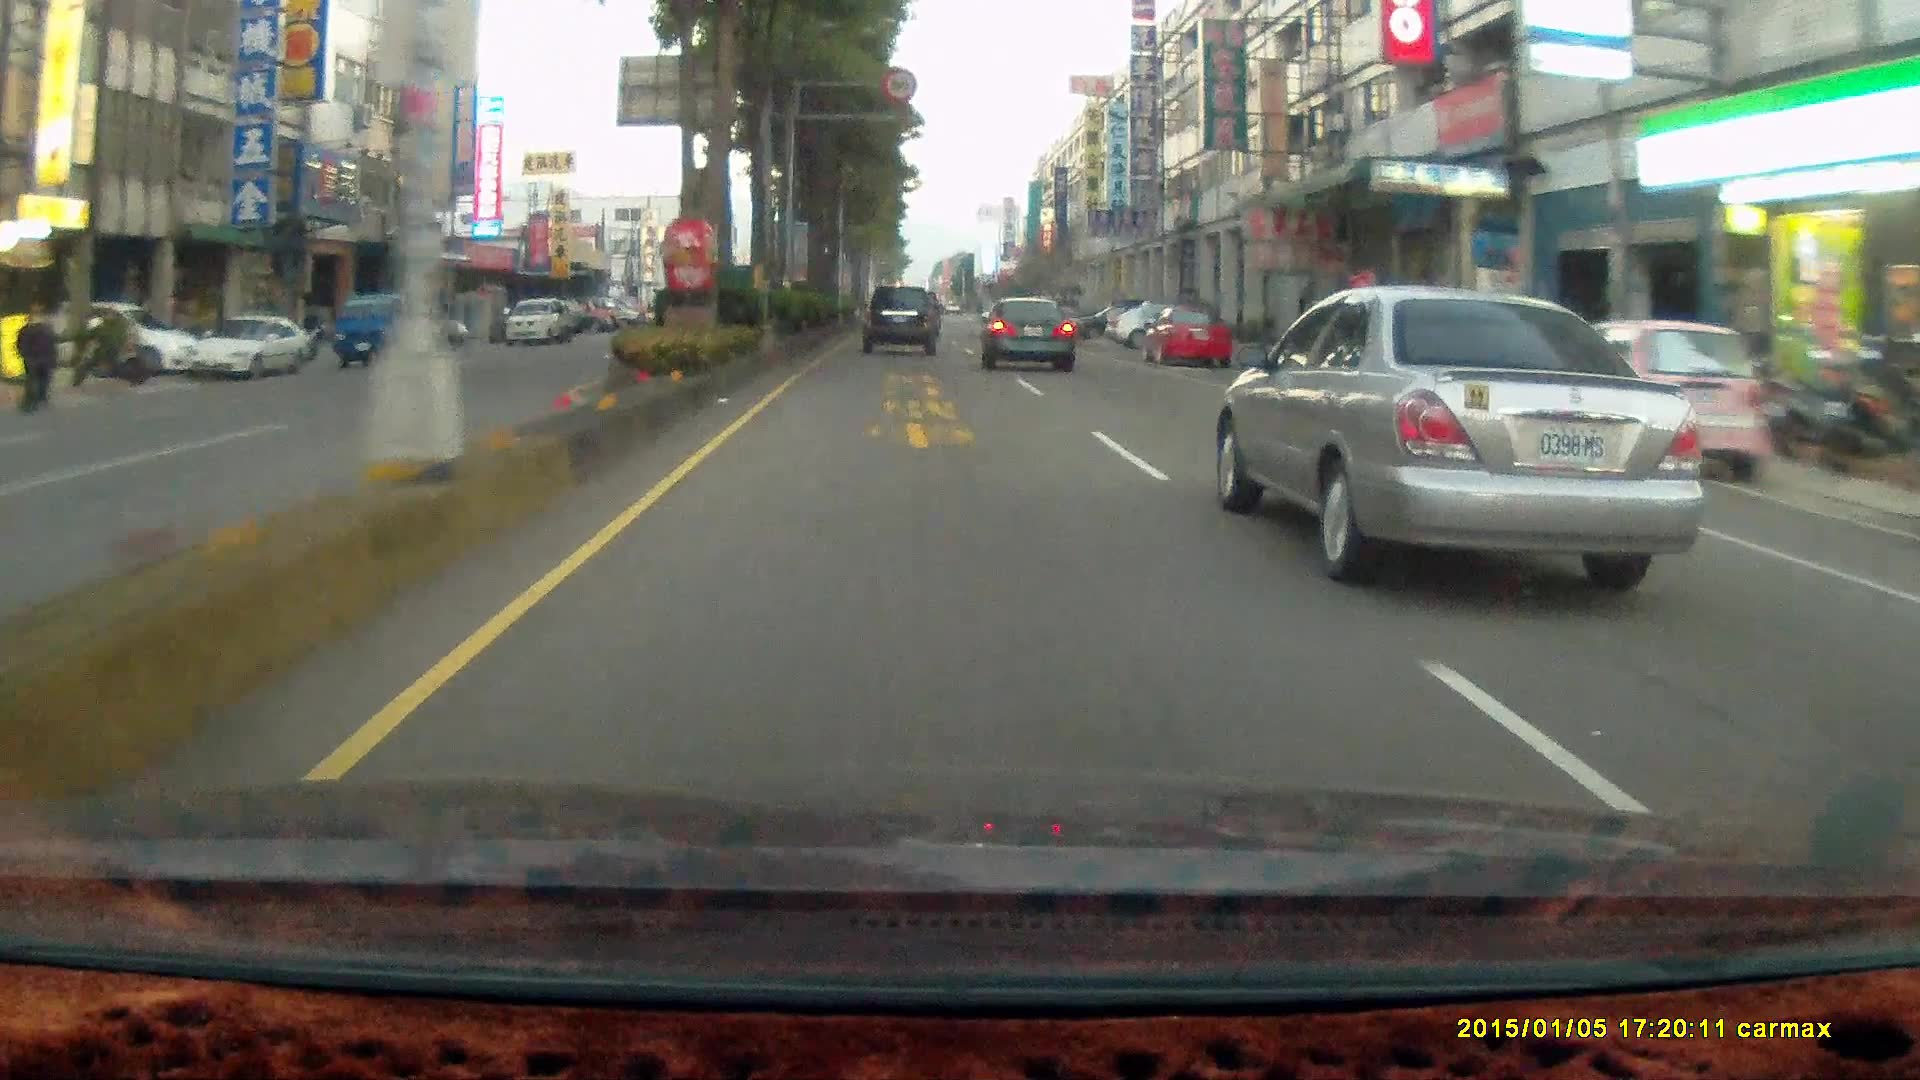pedestrian: (20, 307, 57, 414), (10, 305, 45, 409), (31, 307, 59, 407)
vehicle: (1227, 286, 1720, 575), (1549, 317, 1769, 481), (1545, 316, 1764, 479), (1338, 299, 1525, 397), (49, 299, 195, 374), (187, 314, 313, 385), (335, 293, 446, 369), (185, 317, 309, 381), (983, 300, 1079, 379), (978, 295, 1074, 372), (332, 291, 429, 367), (1139, 302, 1231, 368), (862, 284, 941, 358), (1147, 308, 1233, 375), (860, 282, 938, 352), (1104, 293, 1212, 343), (372, 302, 463, 353), (503, 297, 564, 346)
